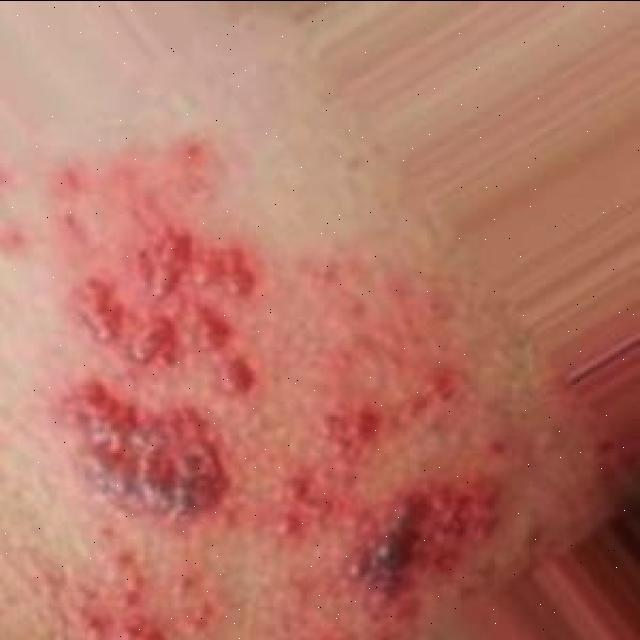Shingles: (274, 371, 496, 604), (72, 229, 259, 398), (48, 378, 229, 520), (62, 552, 209, 640)
